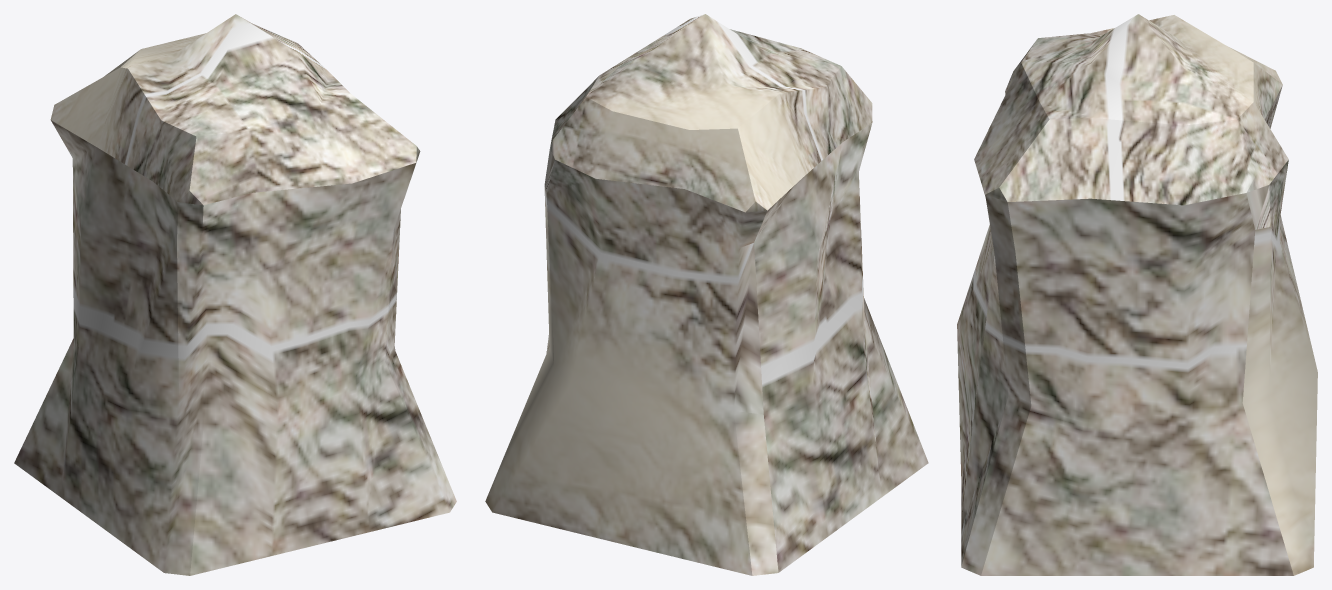
File: TDSten1.fbx
3 views of the same model, side by side, from view 1: azimuth 30°, elevation 25°; view 2: azimuth 150°, elevation 25°; view 3: azimuth 270°, elevation 25° (orthographic). The views are drawn at different scales.
Parts seen in each view (by area): view 1: pCube66; view 2: pCube66; view 3: pCube66.
Boxes of the visible parts, bbox=[...] form: pCube66: bbox=[14, 14, 456, 575]; pCube66: bbox=[485, 14, 928, 575]; pCube66: bbox=[957, 14, 1317, 575].
Size of the model in its own units: 28.34 by 43.26 by 29.
